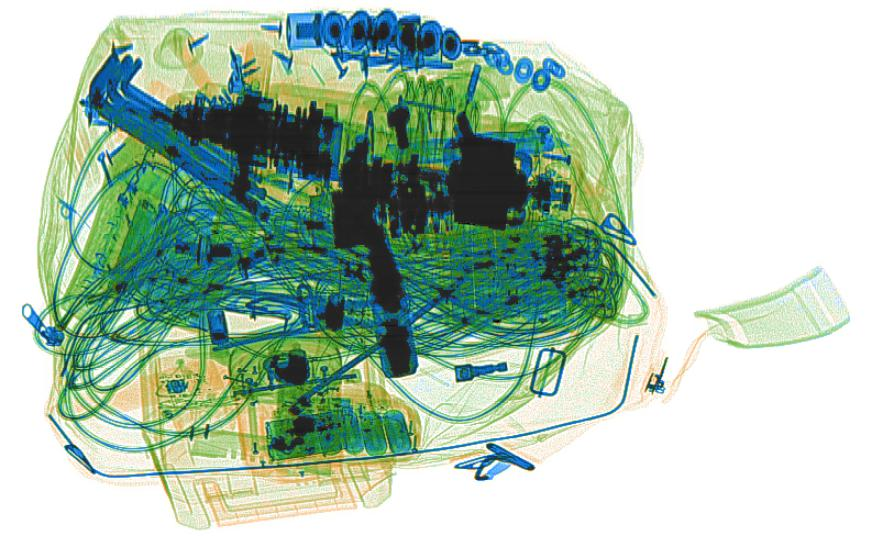battery: (108, 196, 242, 328), (443, 209, 570, 327), (316, 405, 413, 455), (265, 412, 351, 460)
